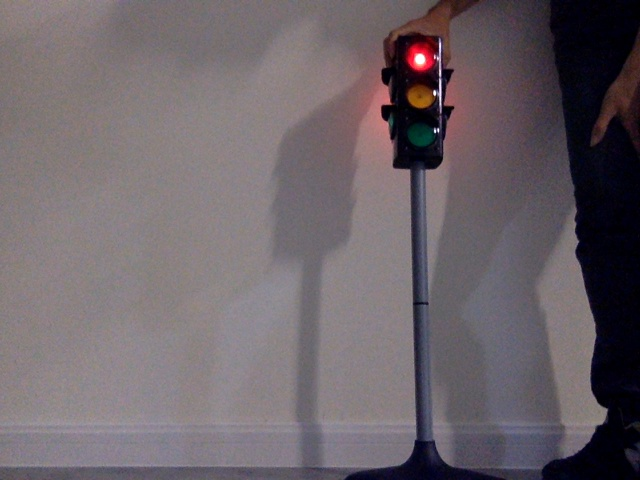red: (398, 41, 440, 151)
